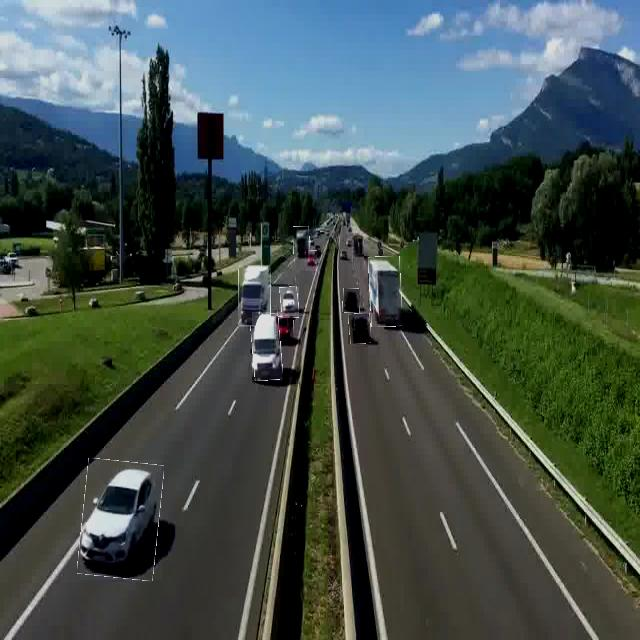Car: (80, 460, 162, 580), (252, 313, 282, 381), (348, 314, 371, 344), (280, 287, 299, 318), (276, 316, 294, 341), (343, 288, 360, 313), (305, 250, 317, 271)
Truck: (369, 256, 402, 327), (239, 266, 271, 328), (294, 226, 310, 263), (352, 234, 364, 264)
